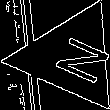N_NW: (35, 28, 105, 86)
